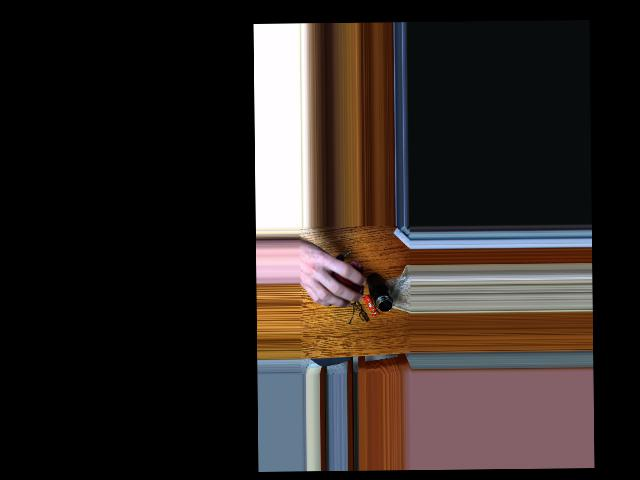onion: (325, 261, 357, 302)
